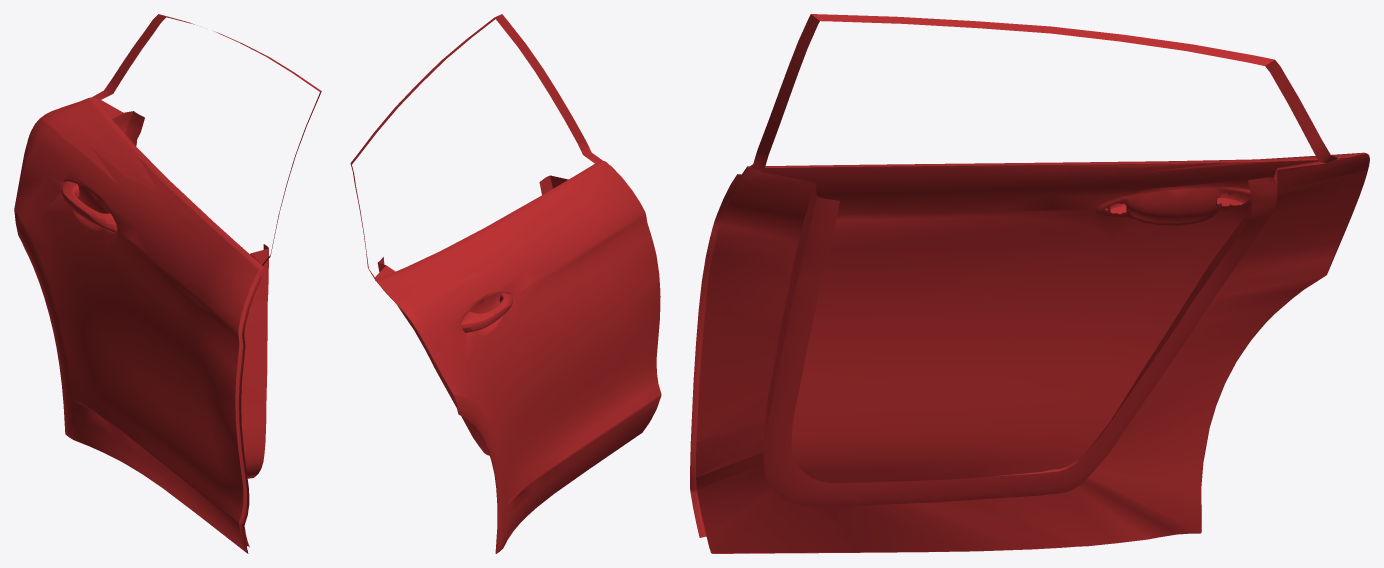
File: Dreapta_Spate_Rosu.fbx
3 views of the same model, side by side, from view 1: azimuth 30°, elevation 25°; view 2: azimuth 150°, elevation 25°; view 3: azimuth 270°, elevation 25° (orthographic). The views are drawn at different scales.
Visible parts, largest first — view 1: door_RB; view 2: door_RB; view 3: door_RB.
Part boxes in pixels (x1,y1,x2,y2): door_RB: [14, 14, 321, 553]; door_RB: [350, 14, 661, 553]; door_RB: [690, 14, 1369, 553].
Bounding box in the file's own units: 669 × 1948 × 1947.
